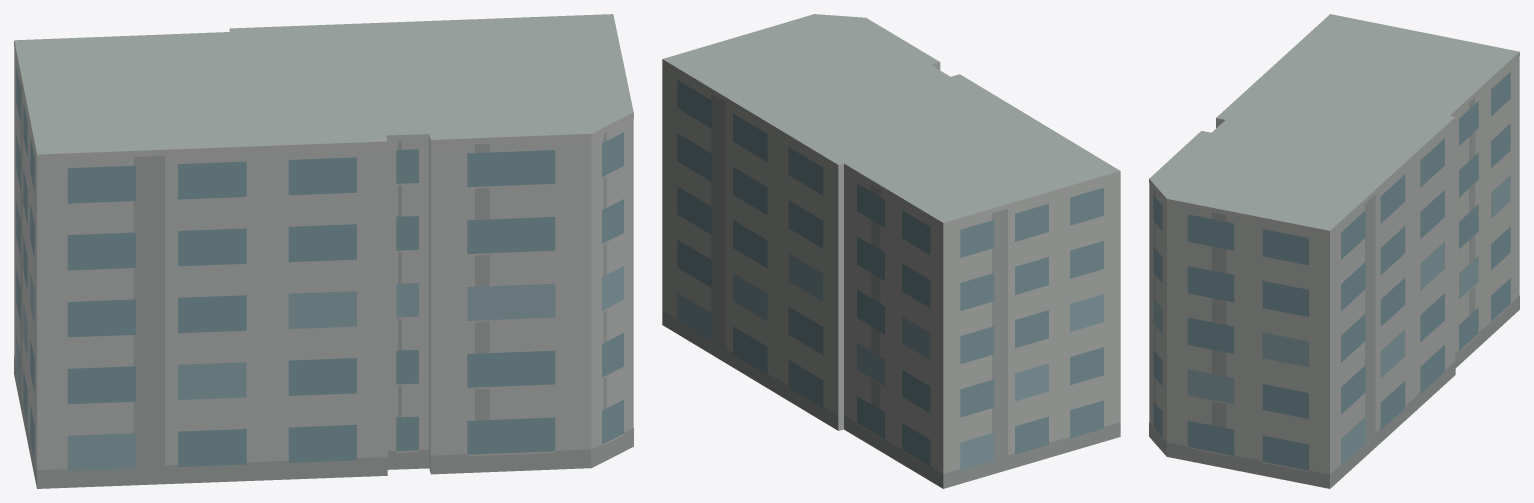
The model's file is survey-upis-32707416.glb.
The picture shows the model from 3 angles, left to right: view 1: azimuth 30°, elevation 25°; view 2: azimuth 150°, elevation 25°; view 3: azimuth 270°, elevation 25°; orthographic projection. The views are drawn at different scales.
Visible parts, largest first — view 1: survey-upis-32707416.tmp; view 2: survey-upis-32707416.tmp; view 3: survey-upis-32707416.tmp.
Part boxes in pixels (x1=…): survey-upis-32707416.tmp: x1=14, y1=14, x2=633, y2=488; survey-upis-32707416.tmp: x1=662, y1=14, x2=1120, y2=488; survey-upis-32707416.tmp: x1=1149, y1=14, x2=1519, y2=488.
Bounding box in the file's own units: 24.26 × 13.45 × 17.52.
